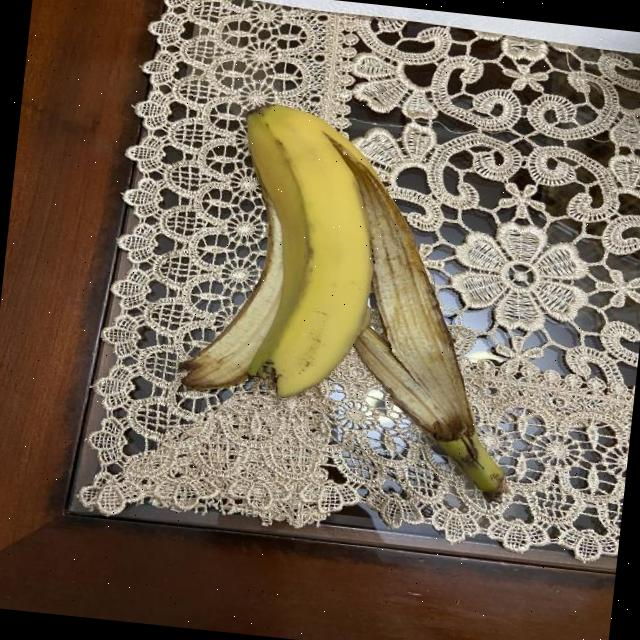banana-peel: (170, 94, 544, 496), (176, 95, 390, 408)
